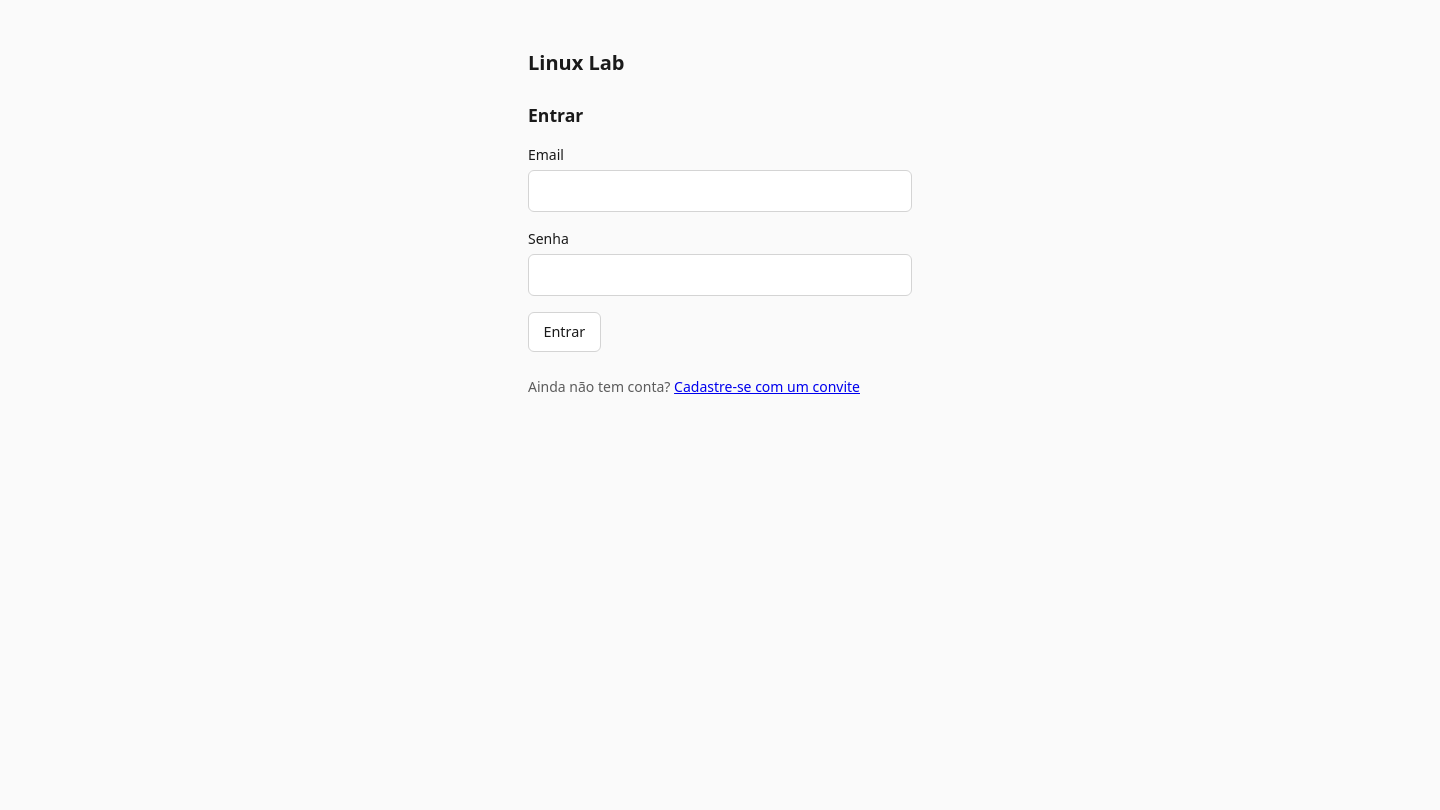
command history across users › does not keep Ana's late history for Bia
Expected: the heading "Entrar" is shown, [528,103,583,127]
Type "bia@example.com" into the field labelled "Email". click: (720,191)
box: [528,170,912,212]
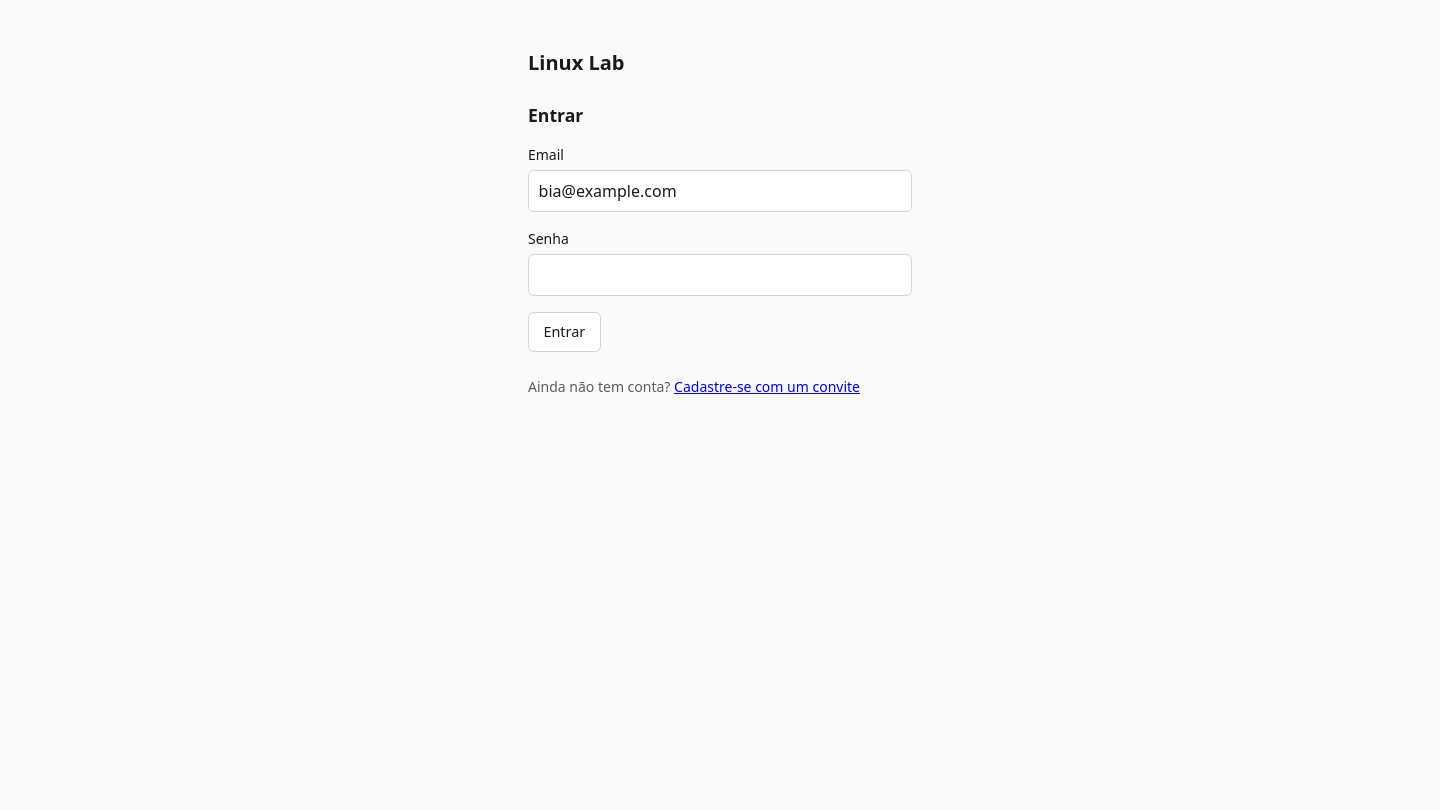
Type "synthetic password 01" into the password field labelled "Senha". click: (720,275)
box: [528,254,912,296]
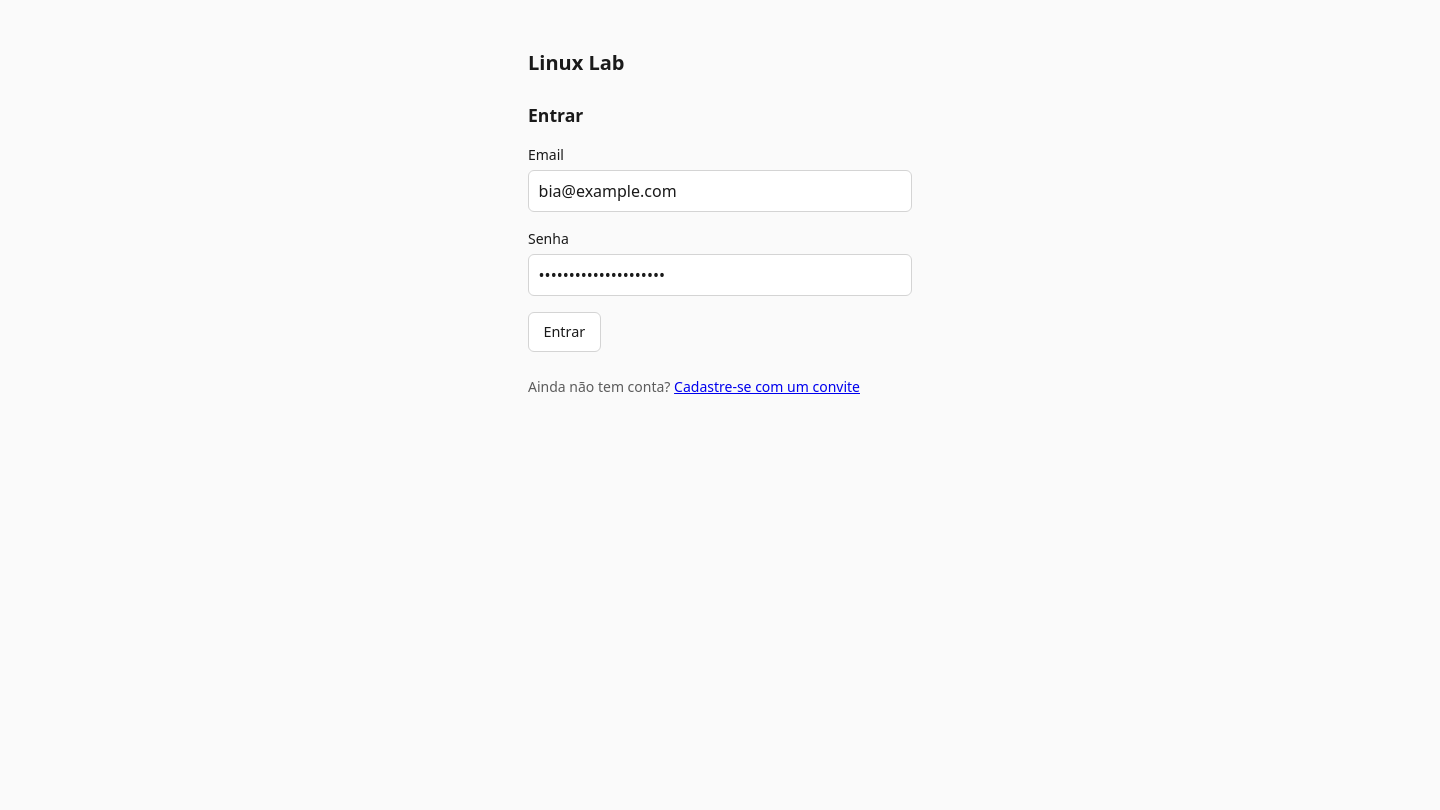
Click the button "Entrar". click: (564,332)
box: [528,312,600,352]
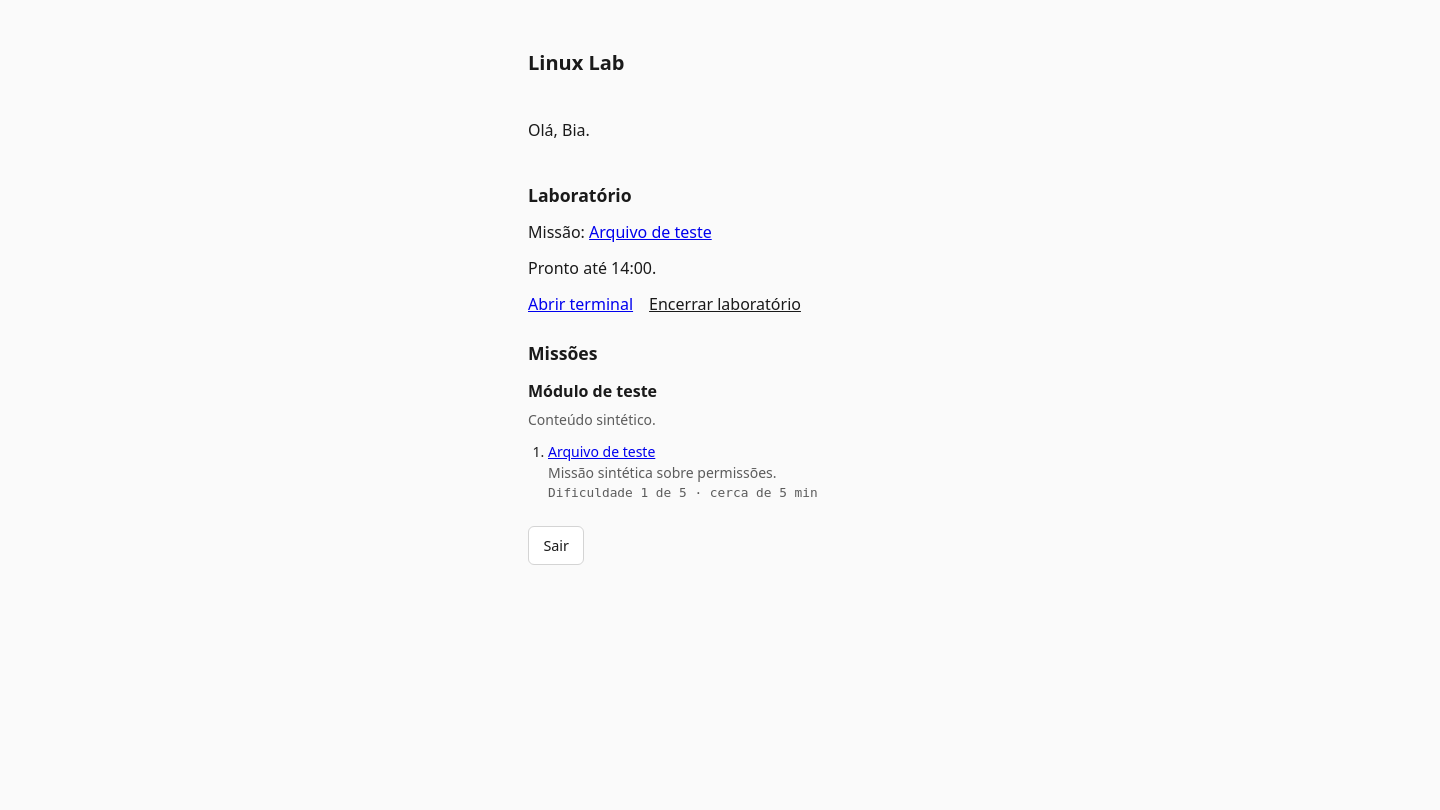
Expected: the text "Olá, Bia." is shown, [528,119,590,141]
Expected: the link "Arquivo de teste" below "Conteúdo sintético." is shown, [548,442,655,461]
Click the link "Abrir terminal". click: (581,304)
box: [528,292,633,316]
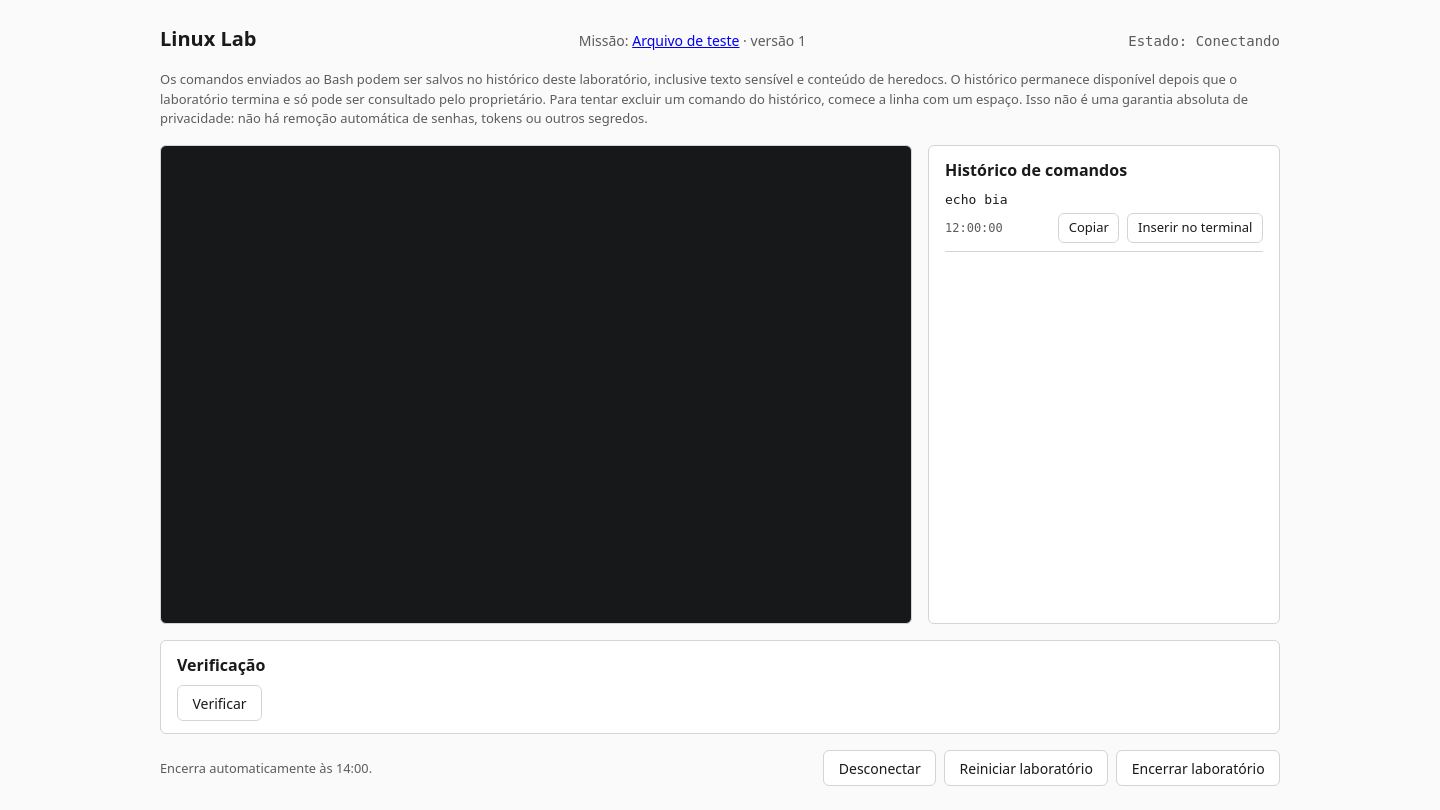
Expected: the text "echo bia" is shown, [945,192,1008,206]
